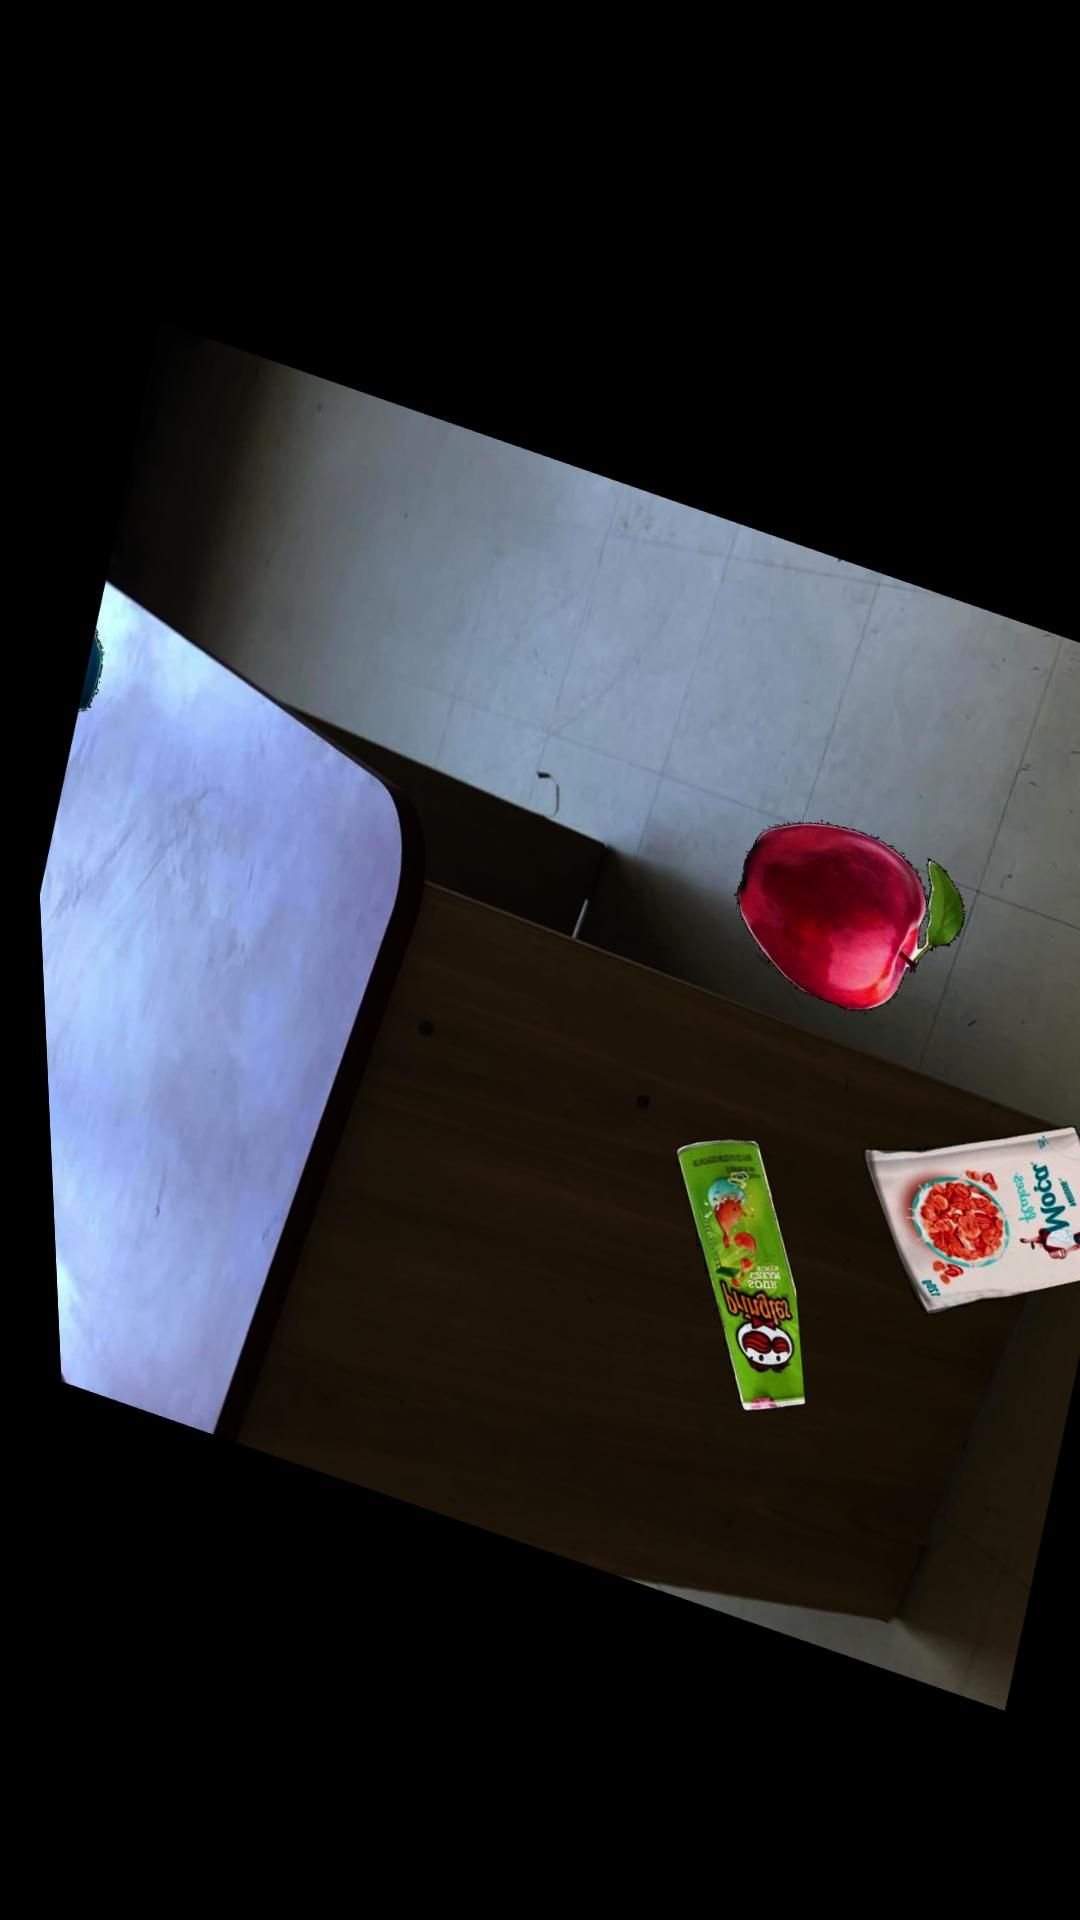apple: (728, 802, 956, 990)
corn flakes: (852, 1101, 1080, 1294)
pringles: (665, 1121, 793, 1394)
